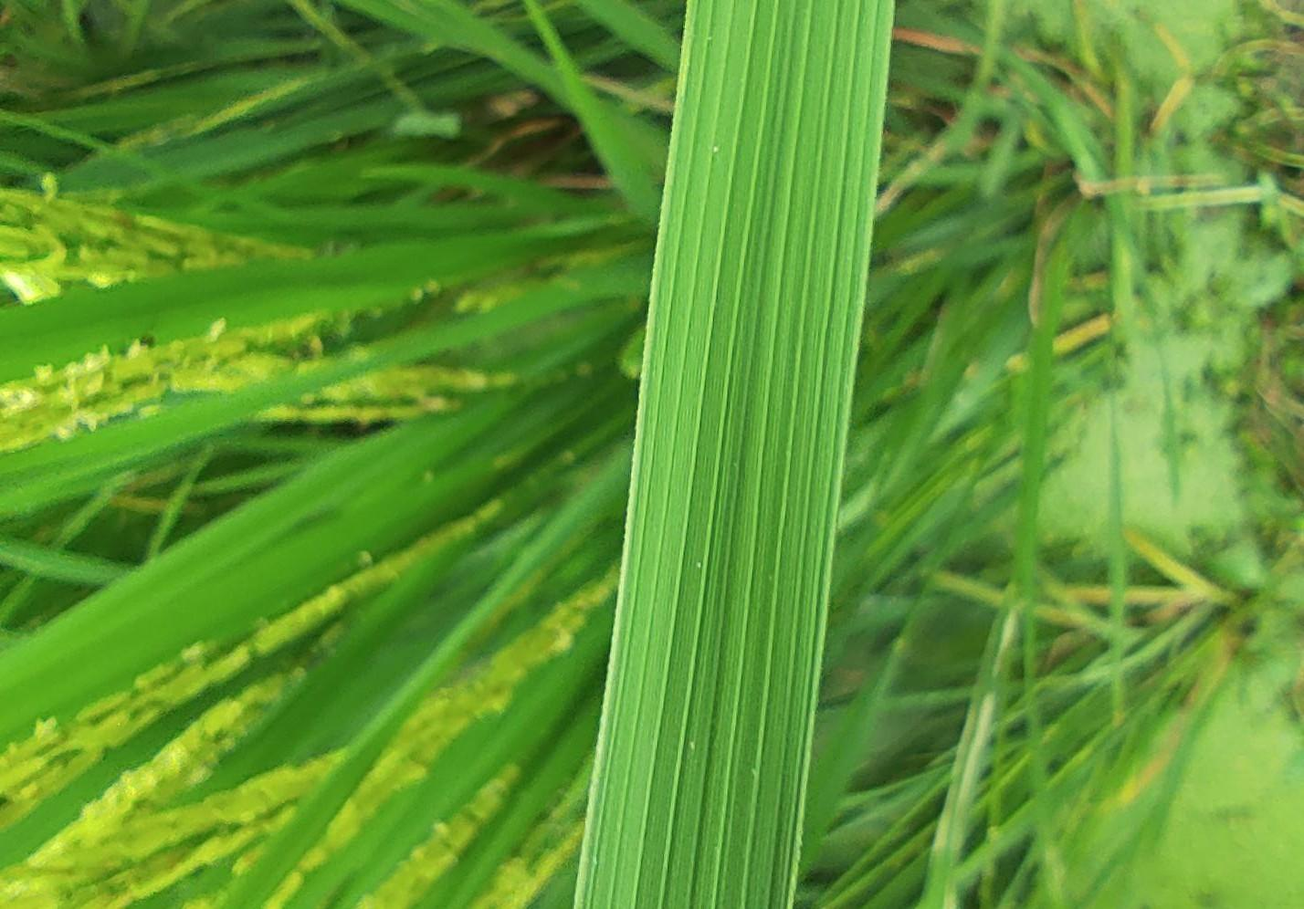Healthy: (574, 0, 889, 908)
